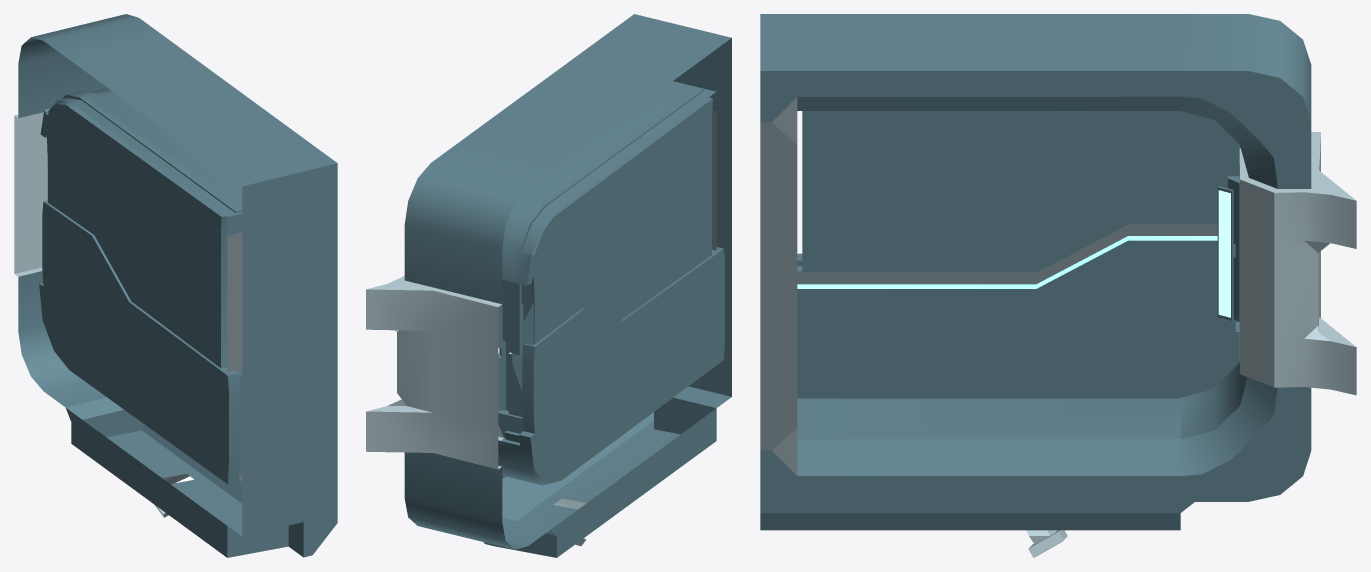
Rendered from m_door.fbx.
3 views of the same model, side by side, from view 1: azimuth 30°, elevation 25°; view 2: azimuth 150°, elevation 25°; view 3: azimuth 270°, elevation 25° (orthographic). The views are drawn at different scales.
Parts seen in each view (by area): view 1: Doorframe, DoorLeft, DoorRight; view 2: Doorframe, DoorLeft, DoorRight; view 3: Doorframe, DoorLeft, DoorRight.
Boxes of the visible parts, x1,y1,x2,y2 form: Doorframe: (14,14,337,557); DoorLeft: (40,90,242,368); DoorRight: (39,200,242,484); Doorframe: (366,14,731,557); DoorLeft: (502,85,712,355); DoorRight: (504,247,724,483); Doorframe: (760,14,1356,557); DoorLeft: (802,111,1240,280); DoorRight: (797,232,1239,398).
Size of the model in its own units: 130 by 446 by 464.
